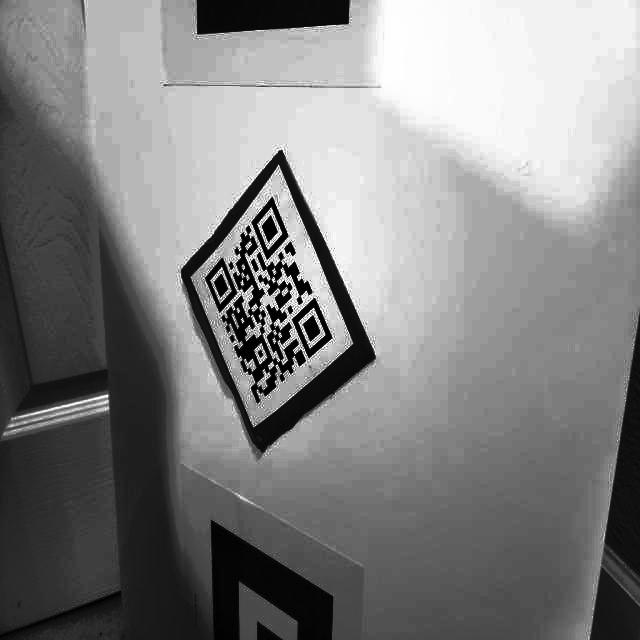qr_code: (195, 190, 345, 410)
